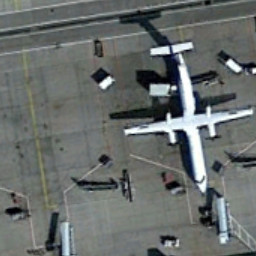Airplane: (118, 38, 256, 195)
